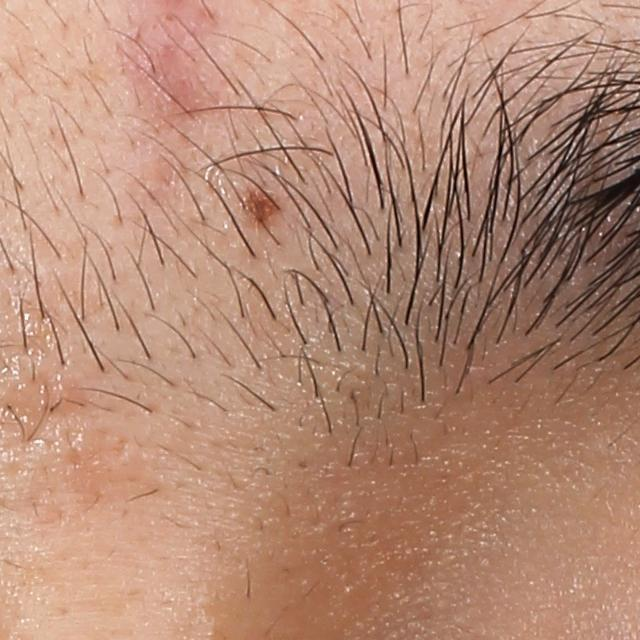nevus: (234, 182, 287, 236)
